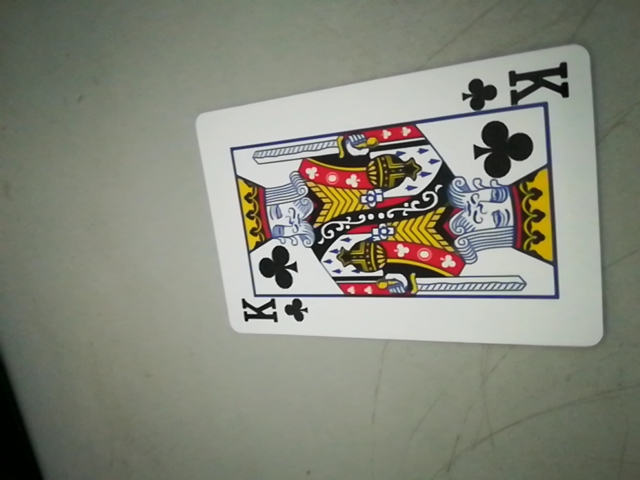mh k: (456, 59, 574, 112), (236, 292, 309, 331)
